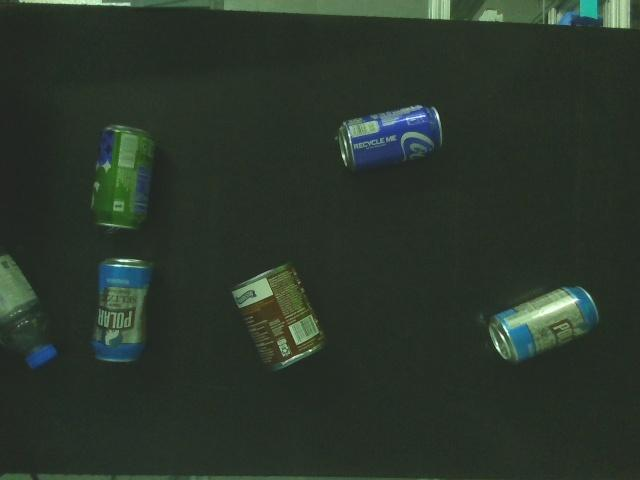metal: (229, 260, 332, 376), (485, 279, 605, 370), (86, 122, 160, 238), (88, 253, 158, 368), (334, 103, 446, 174)
plastic: (0, 243, 59, 375)
